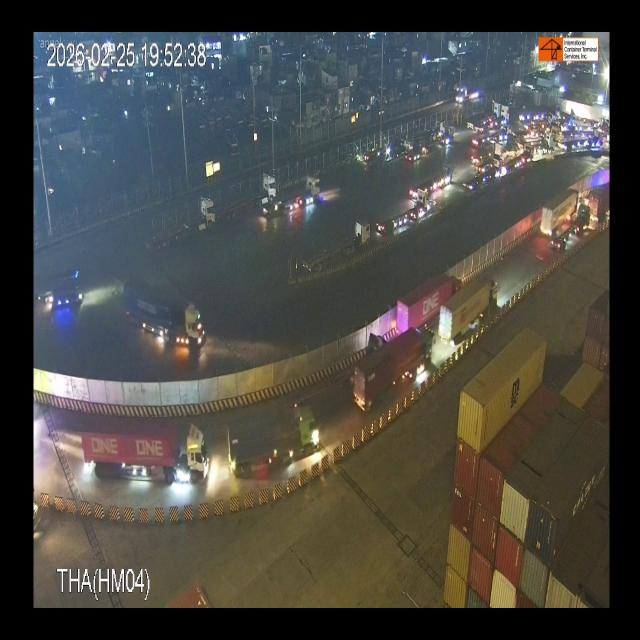truck: (76, 413, 218, 503), (221, 399, 323, 483), (340, 321, 433, 411), (115, 269, 212, 355), (434, 266, 502, 356), (396, 274, 460, 330), (154, 199, 220, 241), (538, 204, 598, 250), (528, 183, 575, 237), (236, 168, 278, 208), (282, 177, 322, 214), (588, 172, 612, 224)
